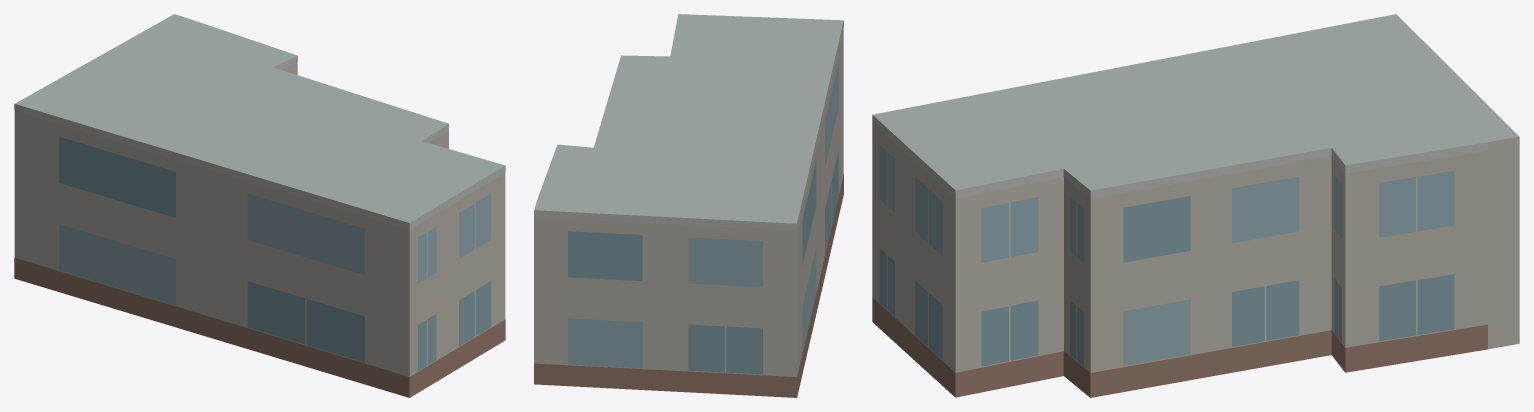
The model's file is survey-upis-32815222.glb.
The picture shows the model from 3 angles, left to right: view 1: azimuth 30°, elevation 25°; view 2: azimuth 150°, elevation 25°; view 3: azimuth 270°, elevation 25°; orthographic projection. The views are drawn at different scales.
Parts seen in each view (by area): view 1: survey-upis-32815222.tmp; view 2: survey-upis-32815222.tmp; view 3: survey-upis-32815222.tmp.
Part boxes in pixels (bbox=[...]): survey-upis-32815222.tmp: bbox=[14, 14, 505, 397]; survey-upis-32815222.tmp: bbox=[534, 14, 843, 397]; survey-upis-32815222.tmp: bbox=[872, 14, 1519, 397].
Bounding box in the file's own units: 11.16 × 6.1 × 17.28.
